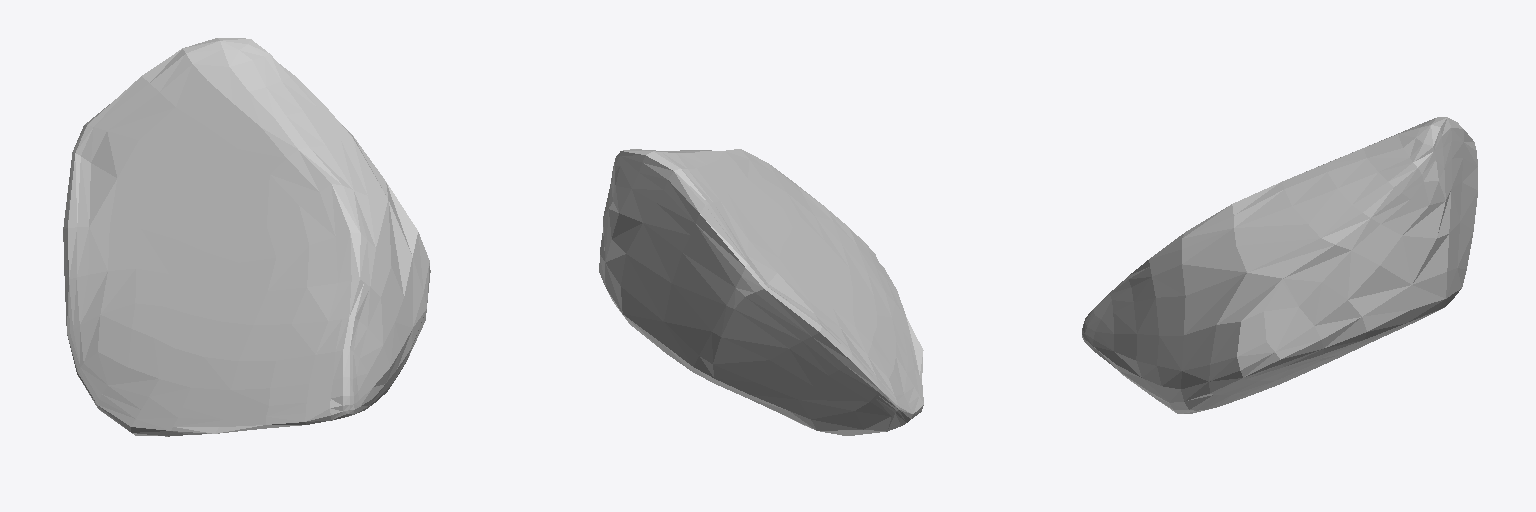
File: Rock2.obj
The picture shows the model from 3 angles: view 1: azimuth 30°, elevation 25°; view 2: azimuth 150°, elevation 25°; view 3: azimuth 270°, elevation 25°; orthographic projection.
Parts seen in each view (by area): view 1: Rocks_Scatter_03_Mesh; view 2: Rocks_Scatter_03_Mesh; view 3: Rocks_Scatter_03_Mesh.
Part boxes in pixels (left/top/right/bottom): Rocks_Scatter_03_Mesh: left=63, top=38, right=430, bottom=436; Rocks_Scatter_03_Mesh: left=599, top=149, right=923, bottom=435; Rocks_Scatter_03_Mesh: left=1082, top=117, right=1477, bottom=413.
Bounding box in the file's own units: 0.8234 × 0.7642 × 0.9133.